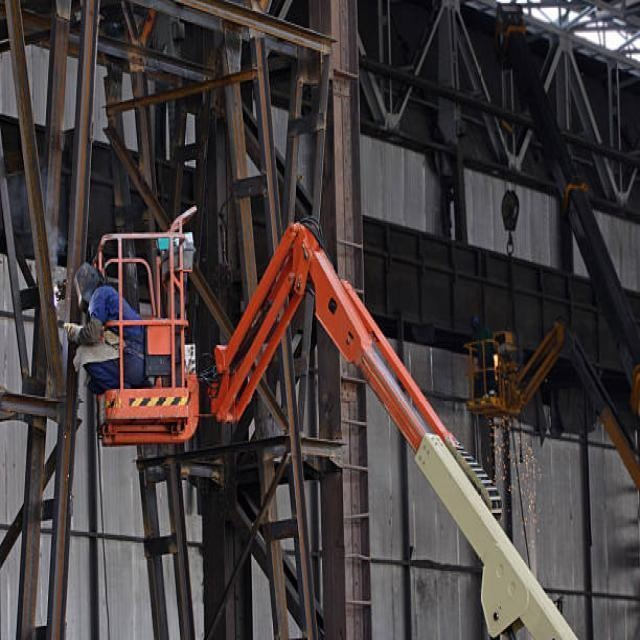Arnes_seguridad: (98, 316, 148, 367)
